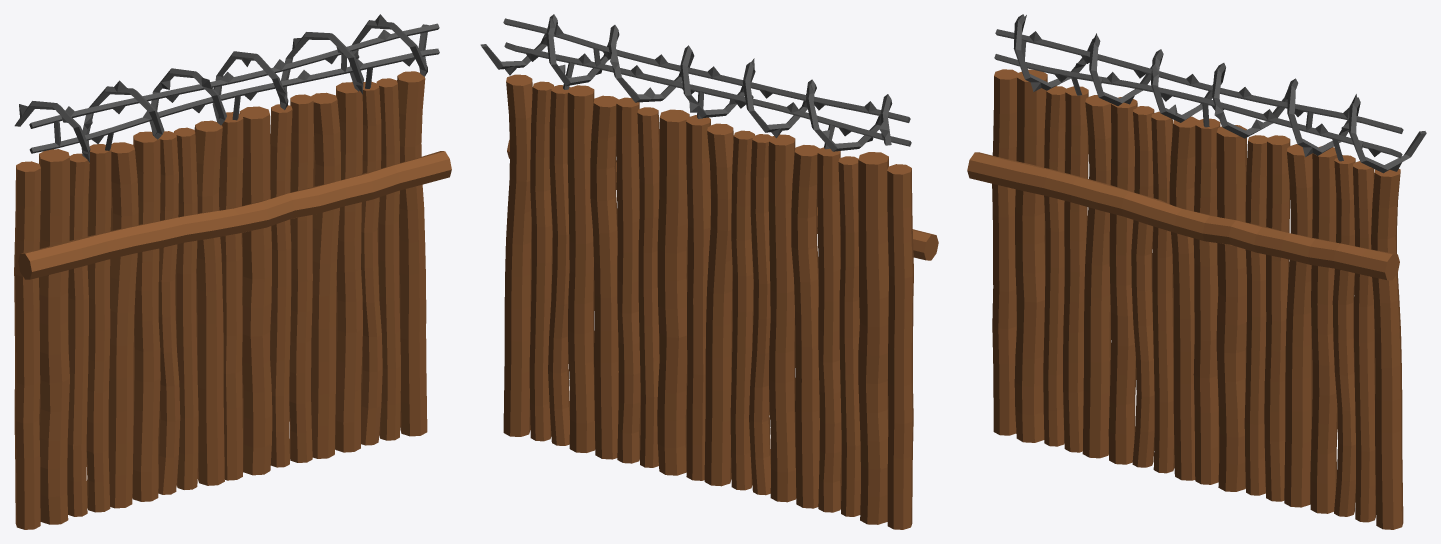
File: wall_wood_normal1.3.fbx
3 renders of one model, left to right at view 1: azimuth 30°, elevation 25°; view 2: azimuth 150°, elevation 25°; view 3: azimuth 330°, elevation 25°, orthographic.
Visible parts, largest first — view 1: Cube, Cylinder; view 2: Cube, Cylinder; view 3: Cube, Cylinder.
Boxes of the visible parts, x1=… form: Cube: x1=14, y1=71, x2=451, y2=529; Cylinder: x1=14, y1=14, x2=439, y2=162; Cube: x1=503, y1=74, x2=938, y2=529; Cylinder: x1=480, y1=14, x2=911, y2=151; Cube: x1=967, y1=69, x2=1403, y2=529; Cylinder: x1=994, y1=14, x2=1426, y2=173.
Bounding box in the file's own units: 455 × 431 × 72.26.
